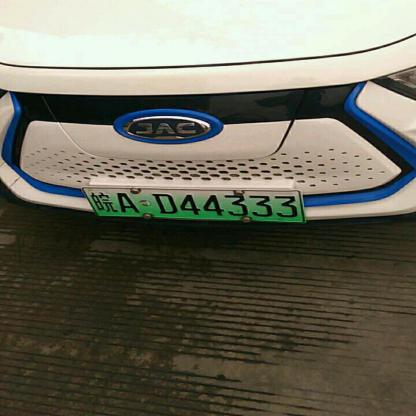lp: (82, 186, 304, 222)
